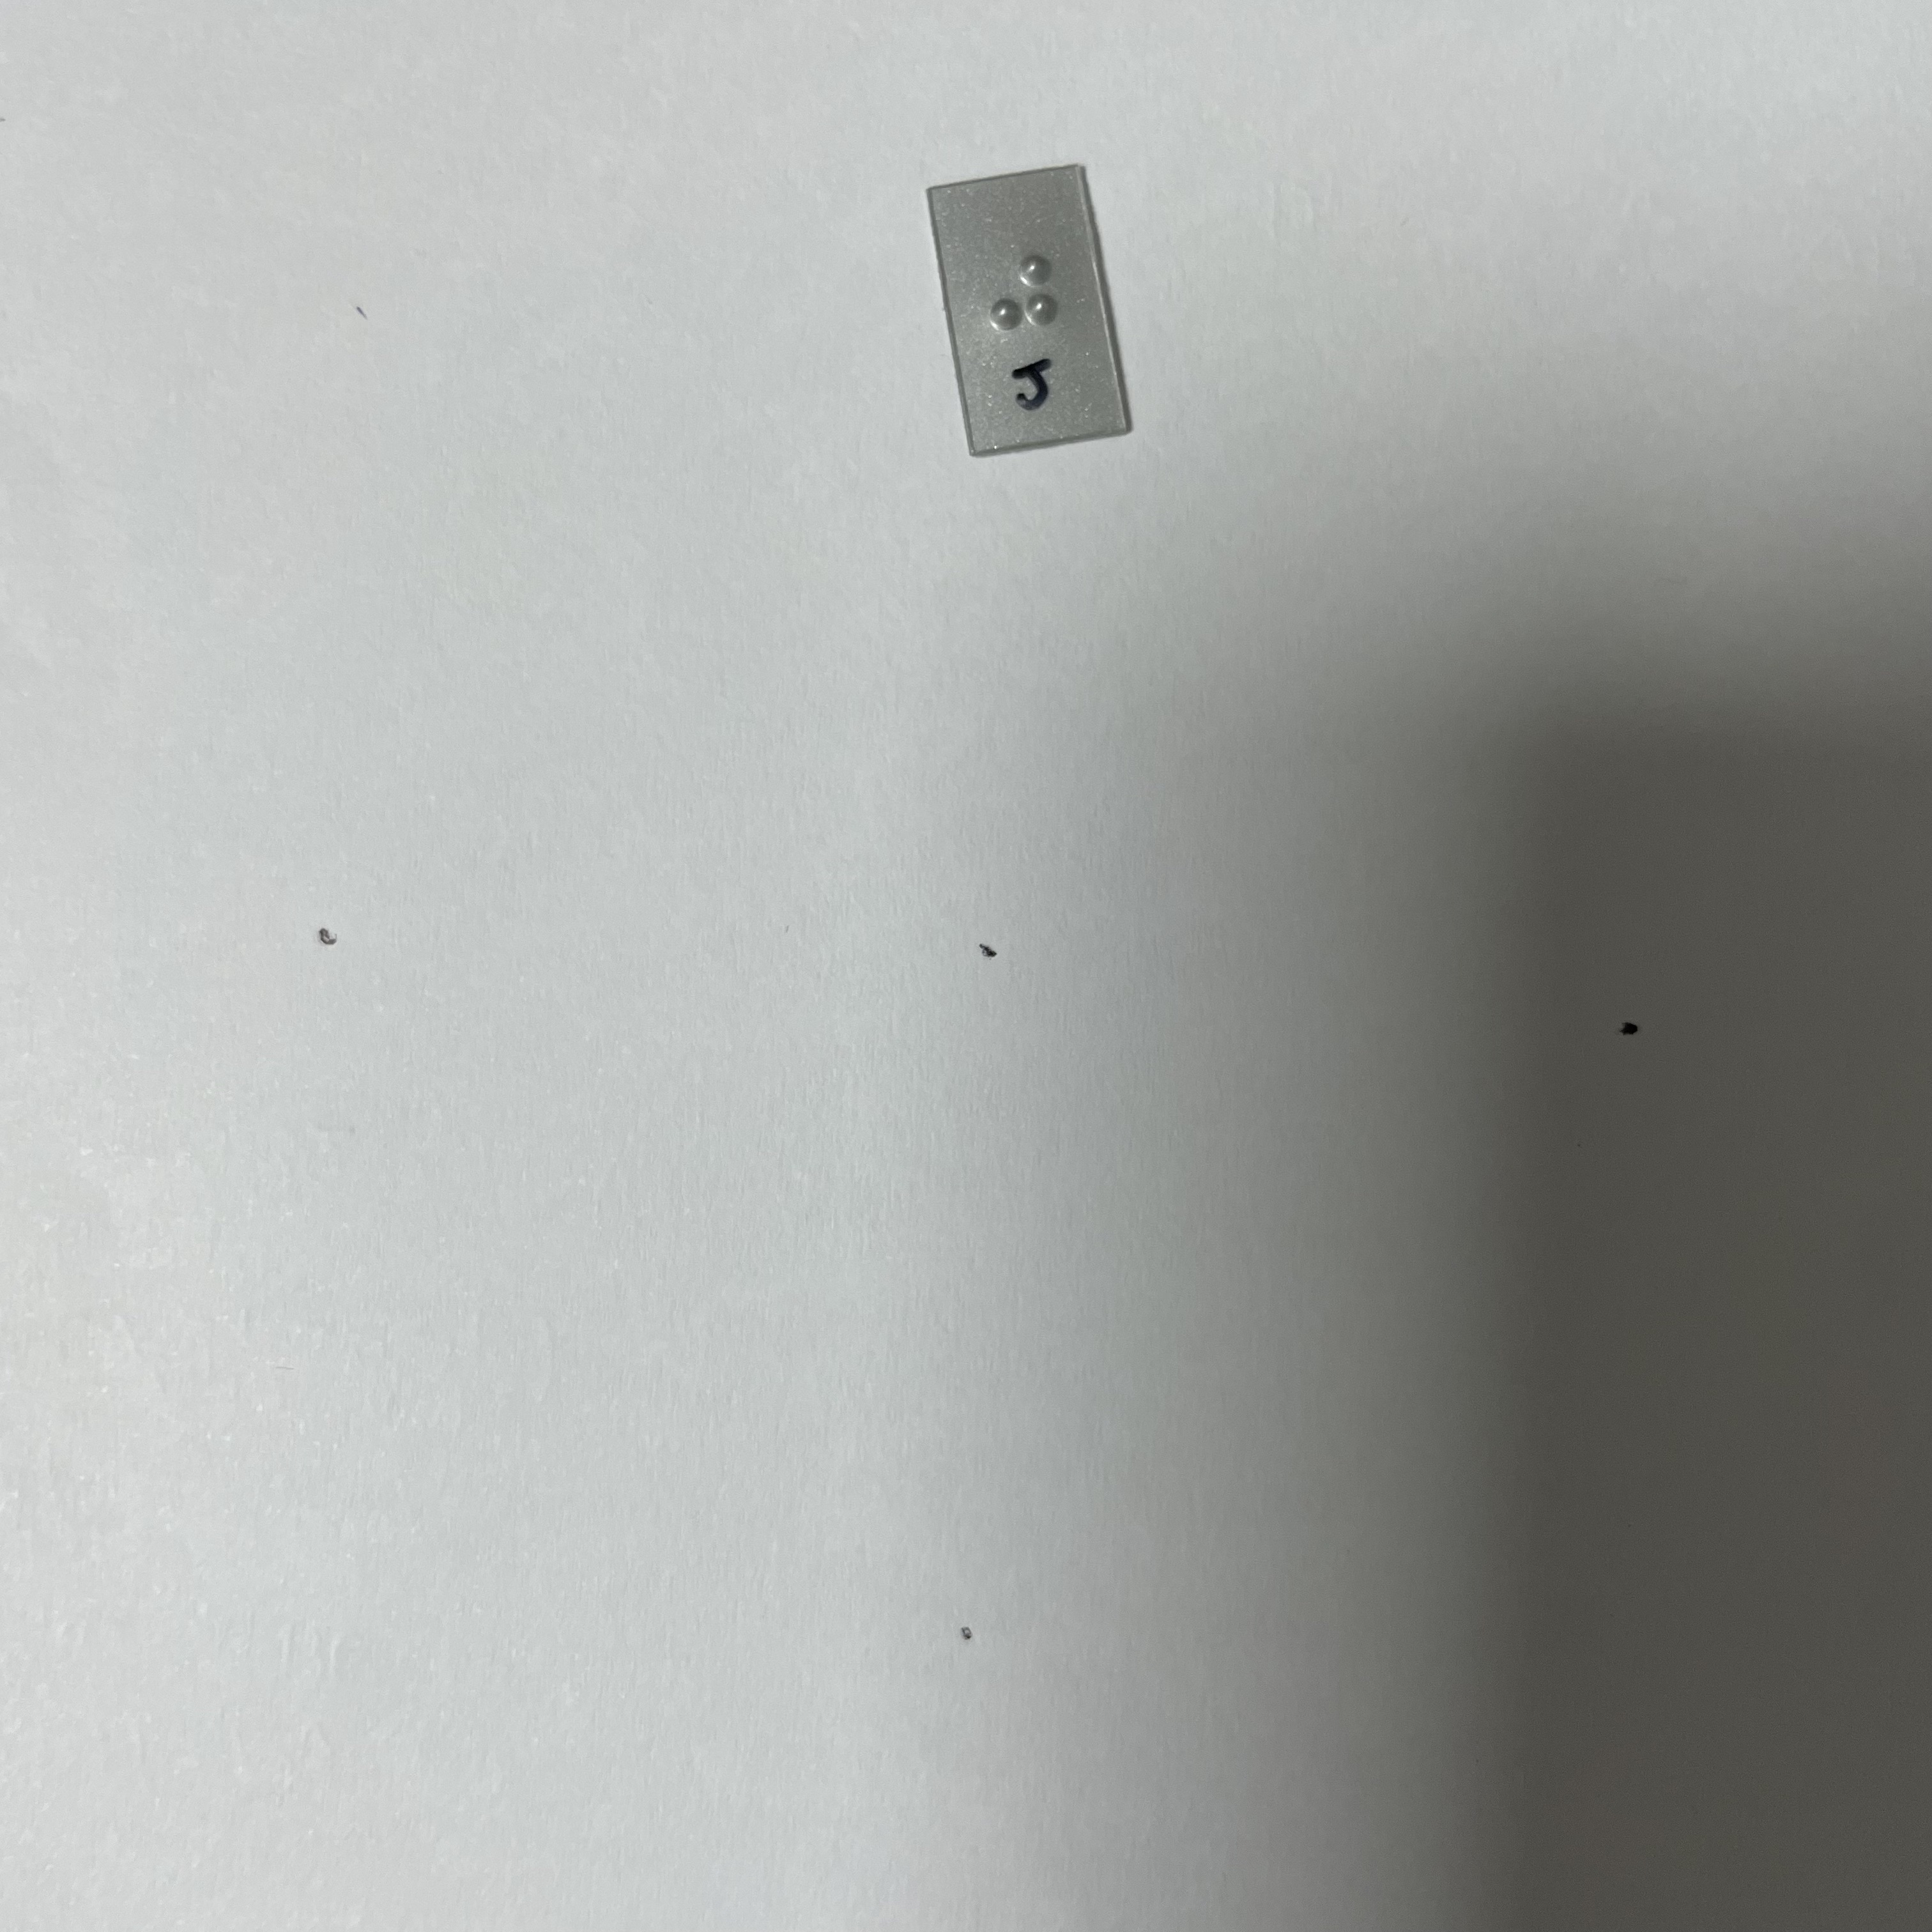j: (977, 247, 1072, 362)
